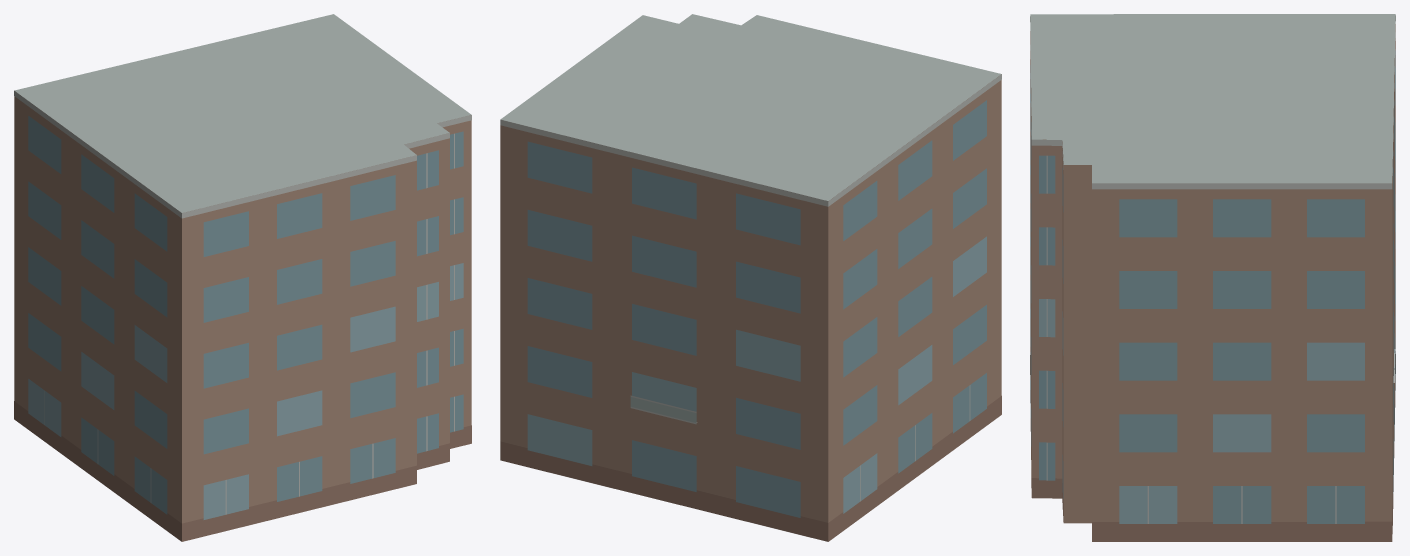
File: survey-upis-32992952.glb
The picture shows the model from 3 angles, left to right: view 1: azimuth 30°, elevation 25°; view 2: azimuth 150°, elevation 25°; view 3: azimuth 270°, elevation 25°; orthographic projection. The views are drawn at different scales.
Parts seen in each view (by area): view 1: survey-upis-32992952.tmp; view 2: survey-upis-32992952.tmp; view 3: survey-upis-32992952.tmp.
Boxes of the visible parts, x1,y1,x2,y2 form: survey-upis-32992952.tmp: [14, 14, 471, 541]; survey-upis-32992952.tmp: [500, 14, 1001, 541]; survey-upis-32992952.tmp: [1030, 14, 1395, 541].
Size of the model in its own units: 14.91 by 14.7 by 13.59.
